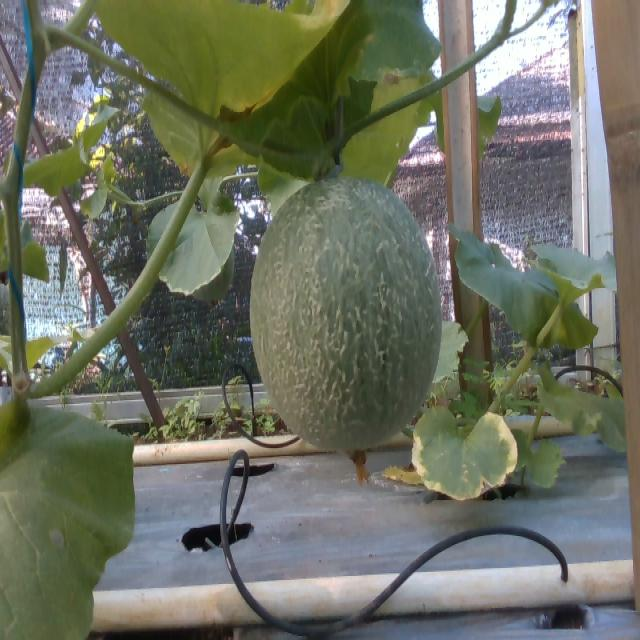melon: (251, 177, 442, 451)
